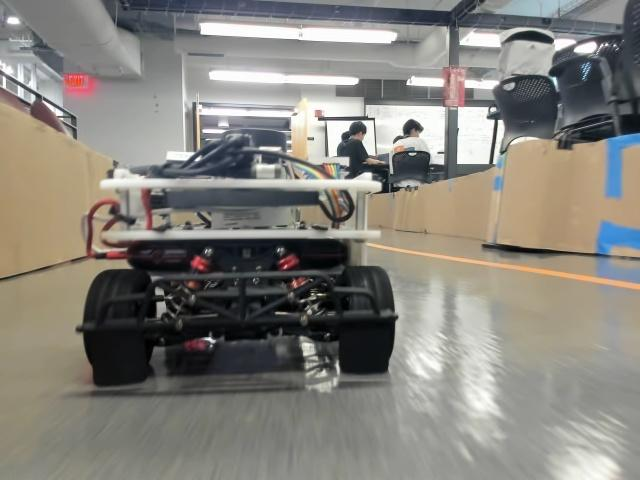Car: (74, 127, 397, 376)
